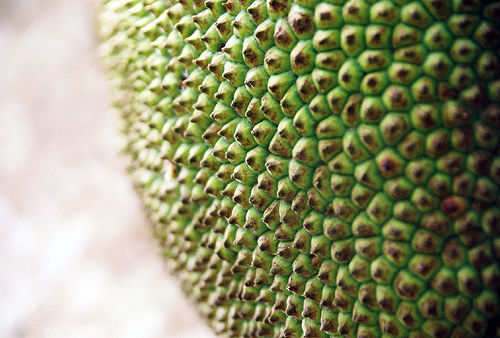jackfruit: (96, 0, 497, 337)
